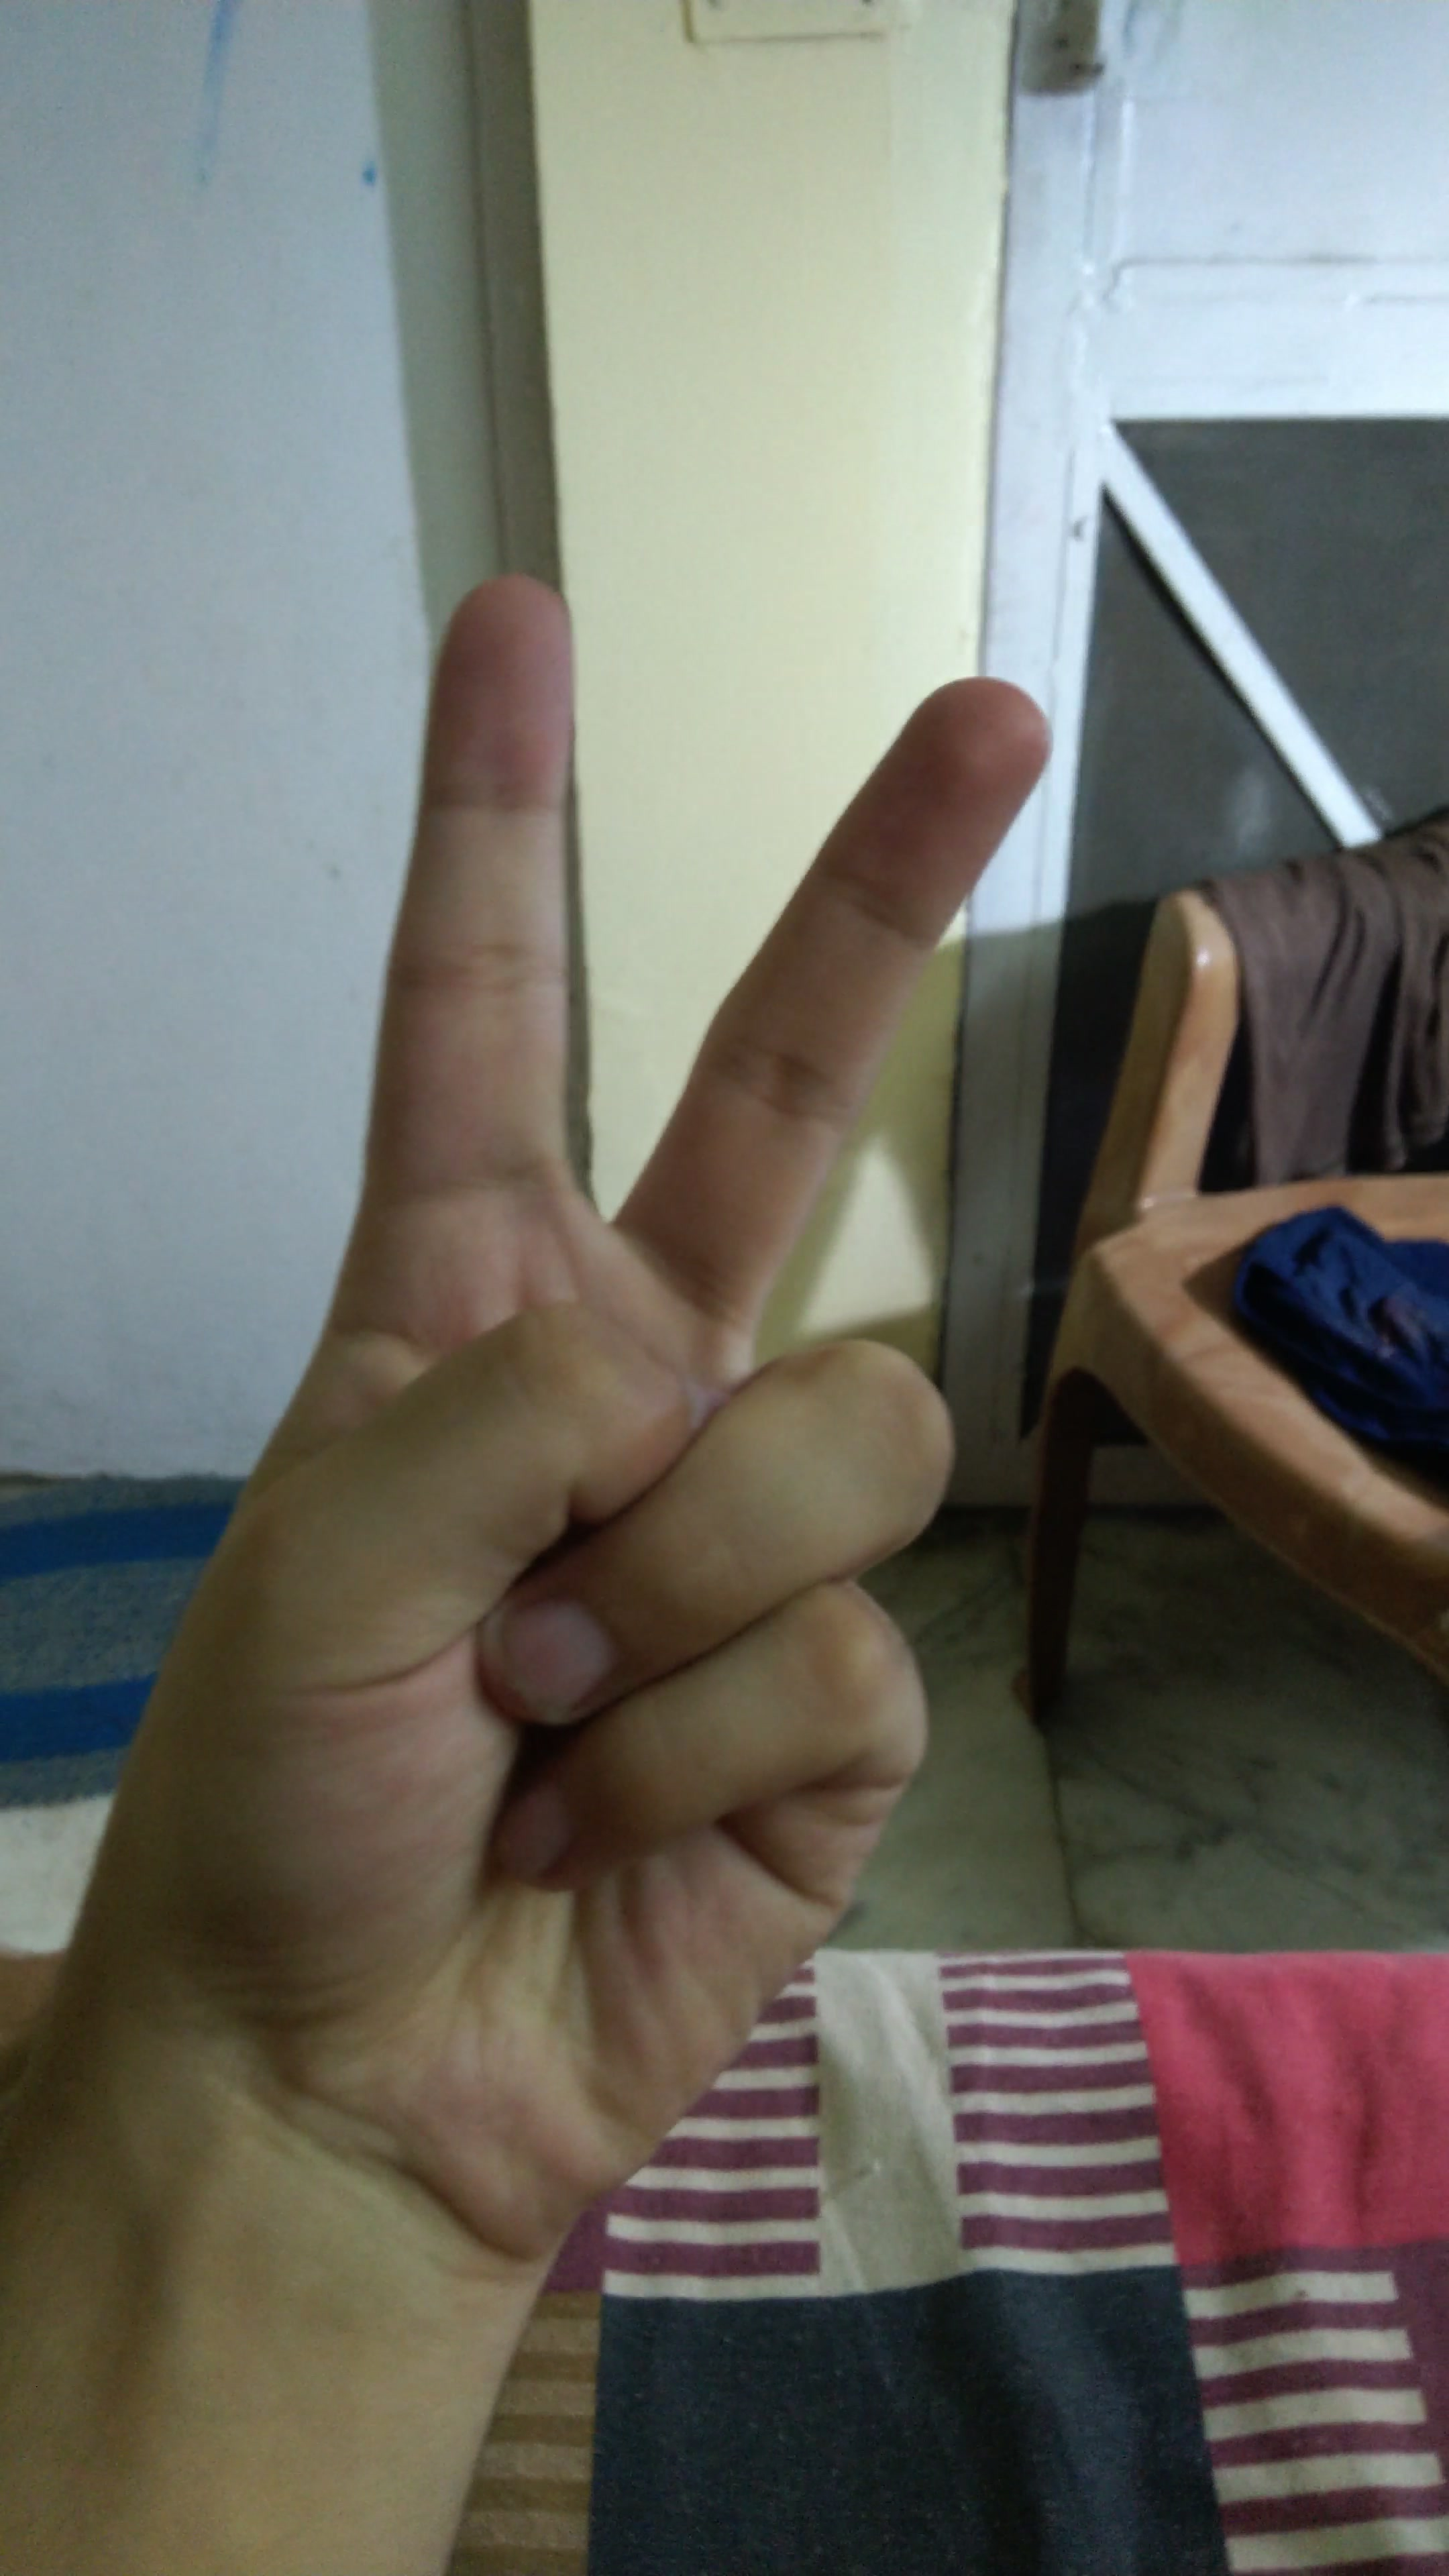hand: (74, 497, 1125, 2286)
